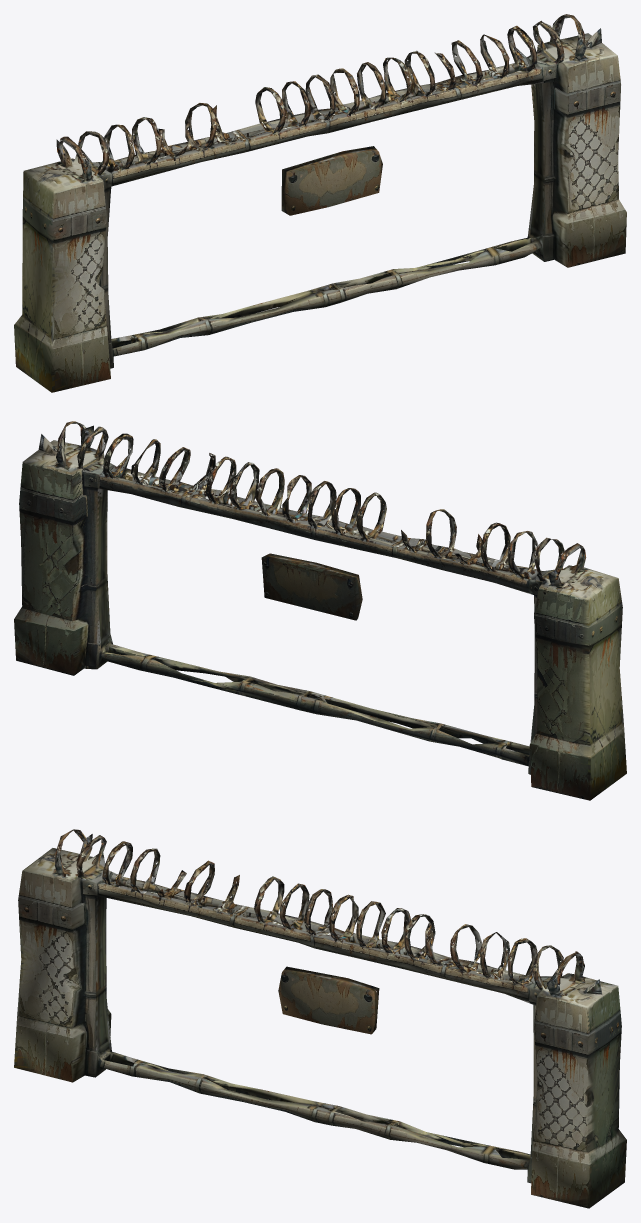
File: EX_Mil_Fence.fbx
3 renders of one model, top to bottom at view 1: azimuth 30°, elevation 25°; view 2: azimuth 150°, elevation 25°; view 3: azimuth 330°, elevation 25°, orthographic.
Visible parts, largest first — view 1: texture_mapping; view 2: texture_mapping; view 3: texture_mapping.
Part boxes in pixels (x1=…): texture_mapping: x1=14, y1=14, x2=626, y2=392; texture_mapping: x1=14, y1=421, x2=626, y2=800; texture_mapping: x1=14, y1=829, x2=626, y2=1208.
Bounding box in the file's own units: 0.9984 × 0.1157 × 0.3898.
1 material, 1 textured.
